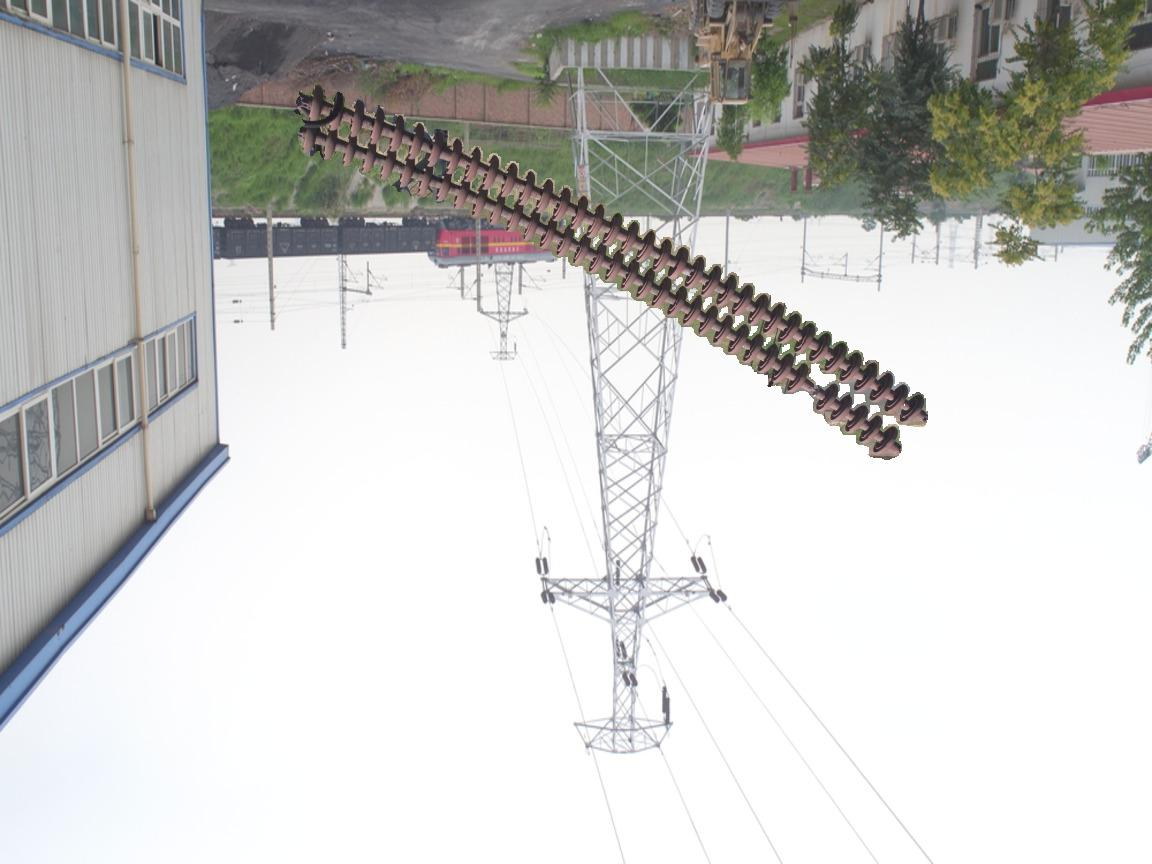insulator: (296, 80, 937, 469)
insulator_stringdrop: (780, 361, 841, 417)
